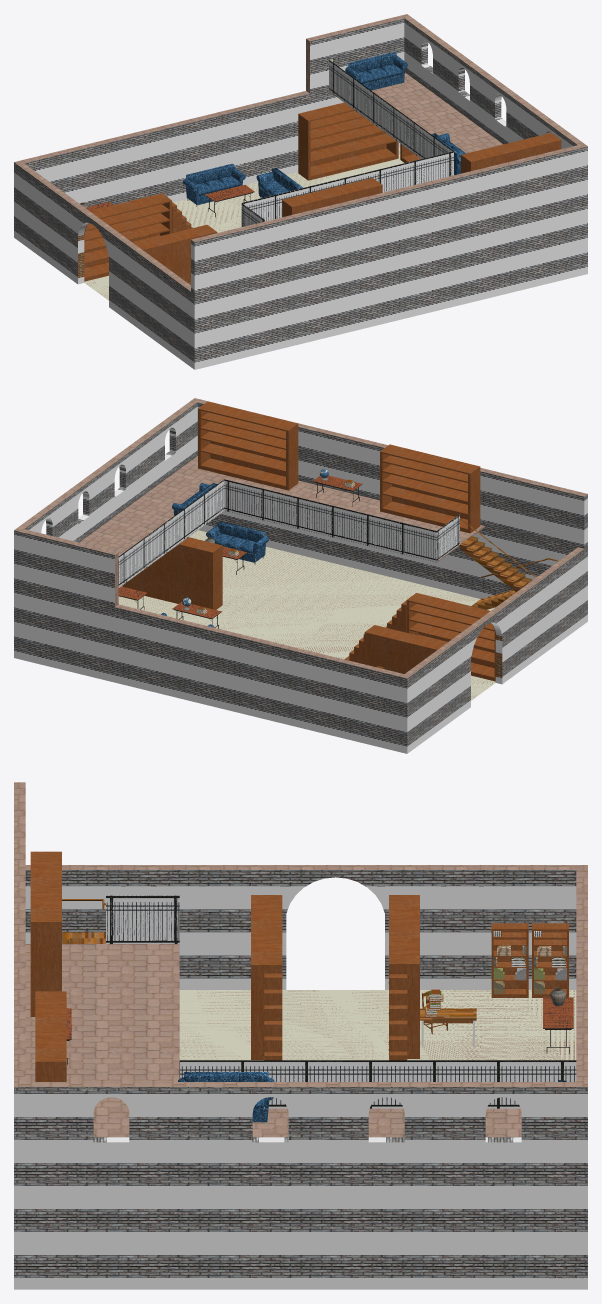
3 renders of one model, top to bottom at view 1: azimuth 30°, elevation 25°; view 2: azimuth 150°, elevation 25°; view 3: azimuth 270°, elevation 25°, orthographic. The views are drawn at different scales.
Visible parts, largest first — view 1: SketchUp (×5), skeC (×12), ske12 (×2); view 2: SketchUp (×6), skeC (×18), ske12, ske16; view 3: SketchUp (×5), skeC (×4), stepped_section (×2), bookshelves_36x14 (×2), ske18.
Boxes of the visible parts, box(x1,y1,x2,y2) form: SketchUp (×5): box(14, 14, 587, 369); skeC (×12): box(84, 102, 561, 284); ske12 (×2): box(183, 52, 407, 205); SketchUp (×6): box(14, 398, 587, 753); skeC (×18): box(122, 401, 495, 681); ske12: box(206, 521, 268, 562); ske16: box(459, 539, 531, 609); SketchUp (×5): box(14, 782, 587, 1289); skeC (×4): box(30, 851, 419, 1081); stepped_section (×2): box(264, 973, 407, 1020); bookshelves_36x14 (×2): box(491, 923, 528, 997); ske18: box(543, 997, 573, 1028).
Size of the model in its own units: 702 by 559 by 229.
31 materials, 20 textured.
